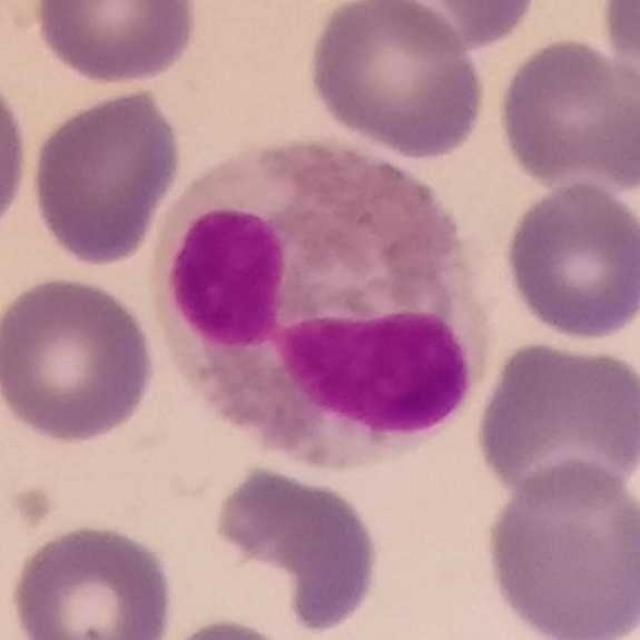eosino: (149, 132, 488, 470)
